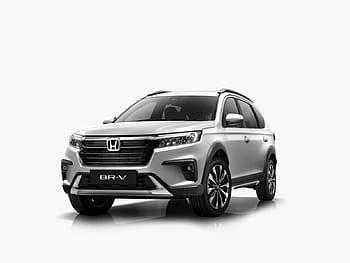Car hood: (73, 120, 219, 139)
Fender - -F-L-: (201, 118, 233, 182)
Front bumper: (60, 146, 213, 199)
Headlight - -L-: (152, 131, 205, 151)
Headlight - -R-: (65, 128, 87, 152)
Passenger-s door - -F-L-: (229, 96, 251, 179)
Passenger-s door - -R-L-: (244, 98, 271, 179)
Rear light - -L-: (269, 128, 279, 142)
Side bumper - -L-: (224, 171, 272, 190)
Side mirror - -L-: (223, 112, 245, 129)
Side mirror - -R-: (95, 115, 120, 125)
